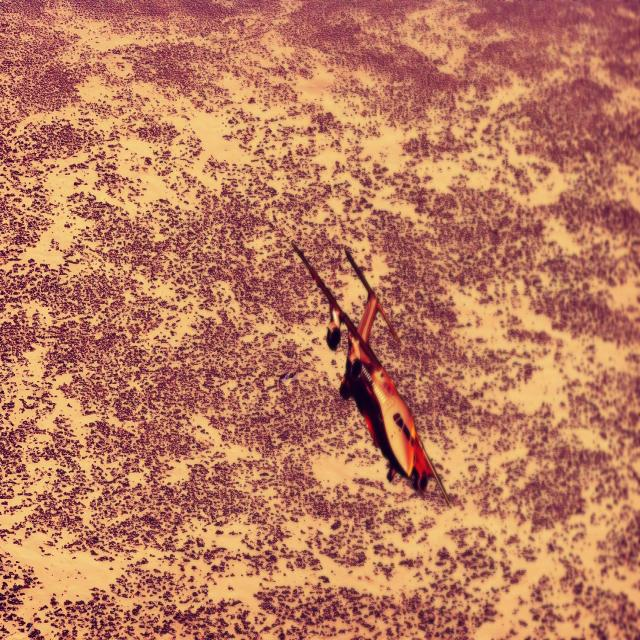airplane: (290, 240, 450, 508)
